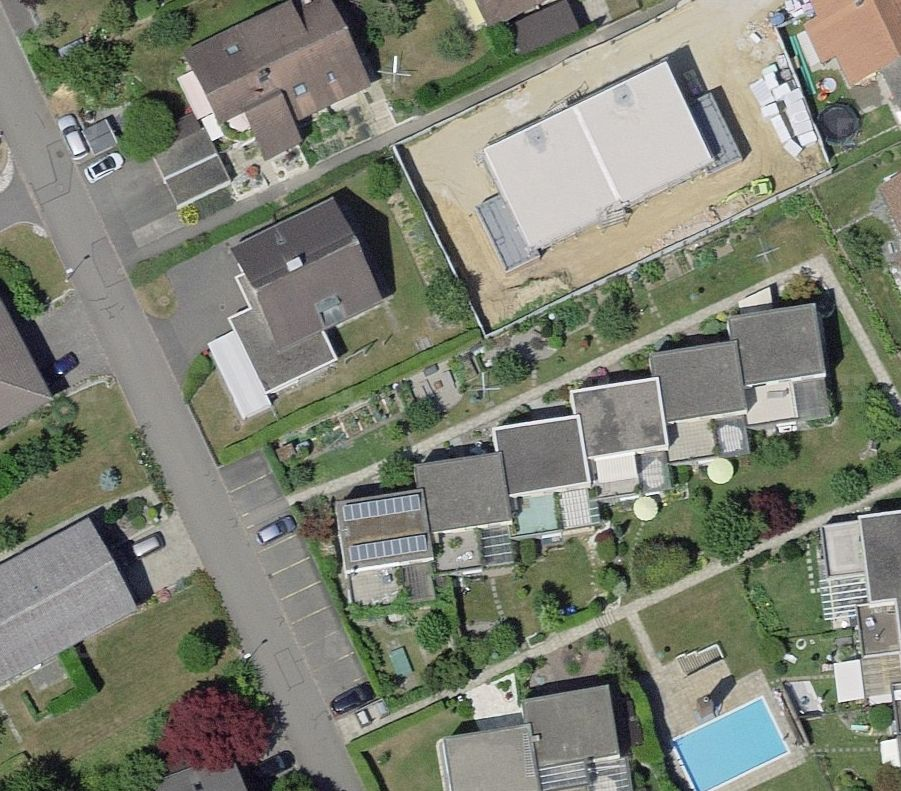solar: (347, 534, 428, 562), (342, 493, 421, 521)
